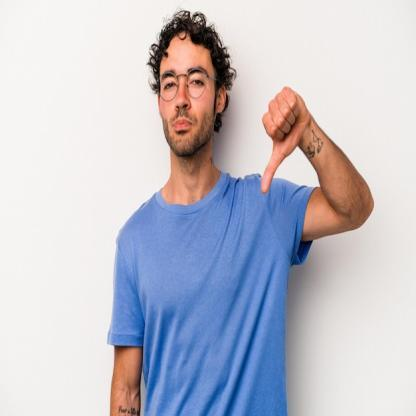thumb_down: (256, 82, 311, 196)
